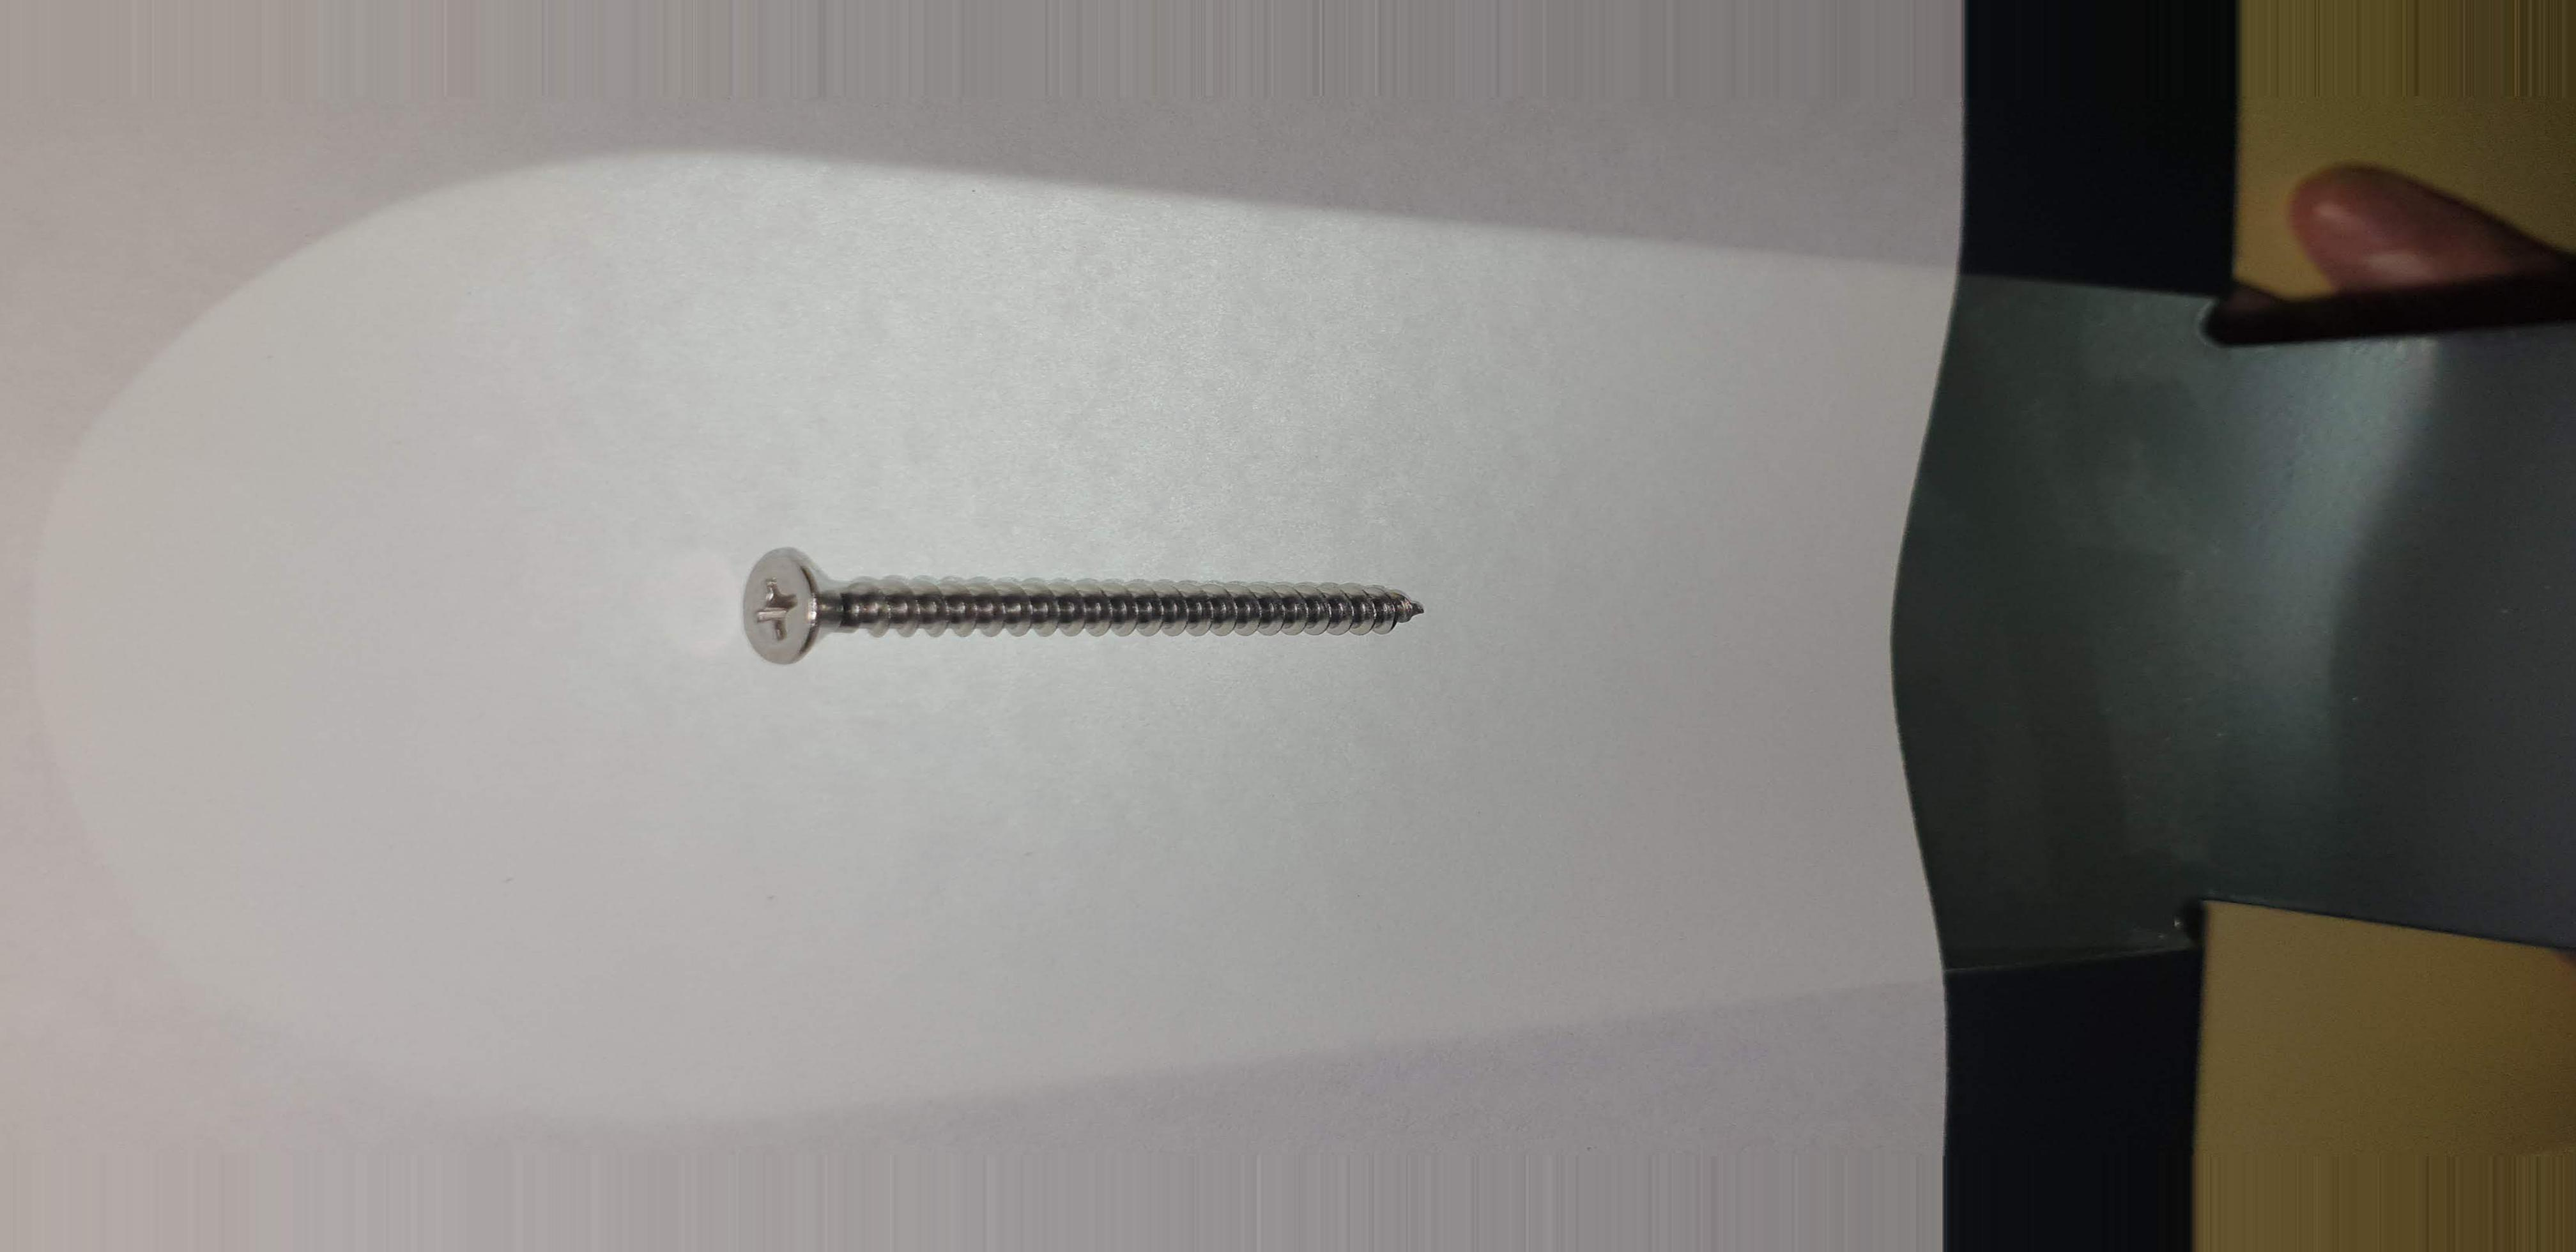fastener: (690, 485, 1534, 730)
